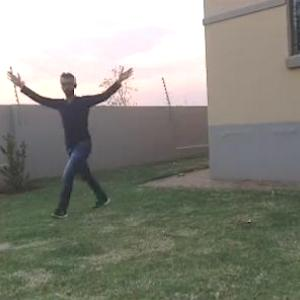takeoff: (12, 63, 144, 216)
